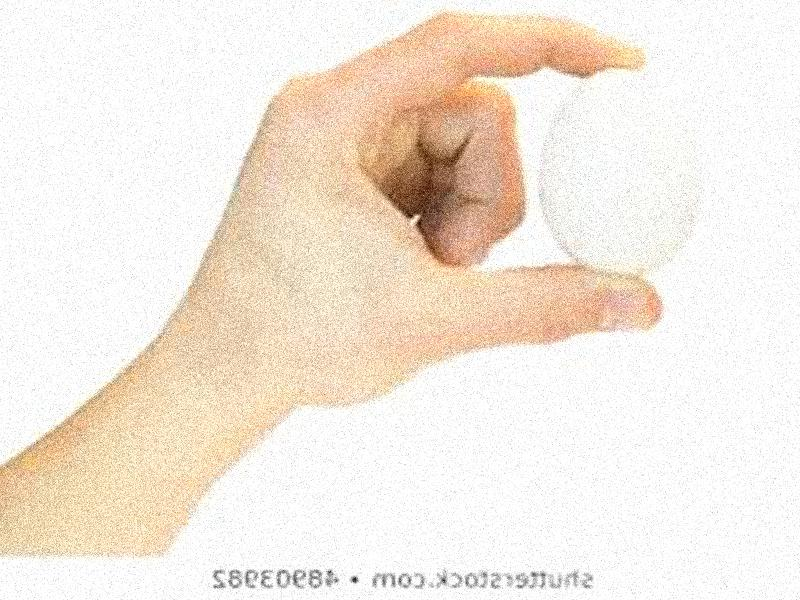Eggs: (538, 69, 697, 278)
